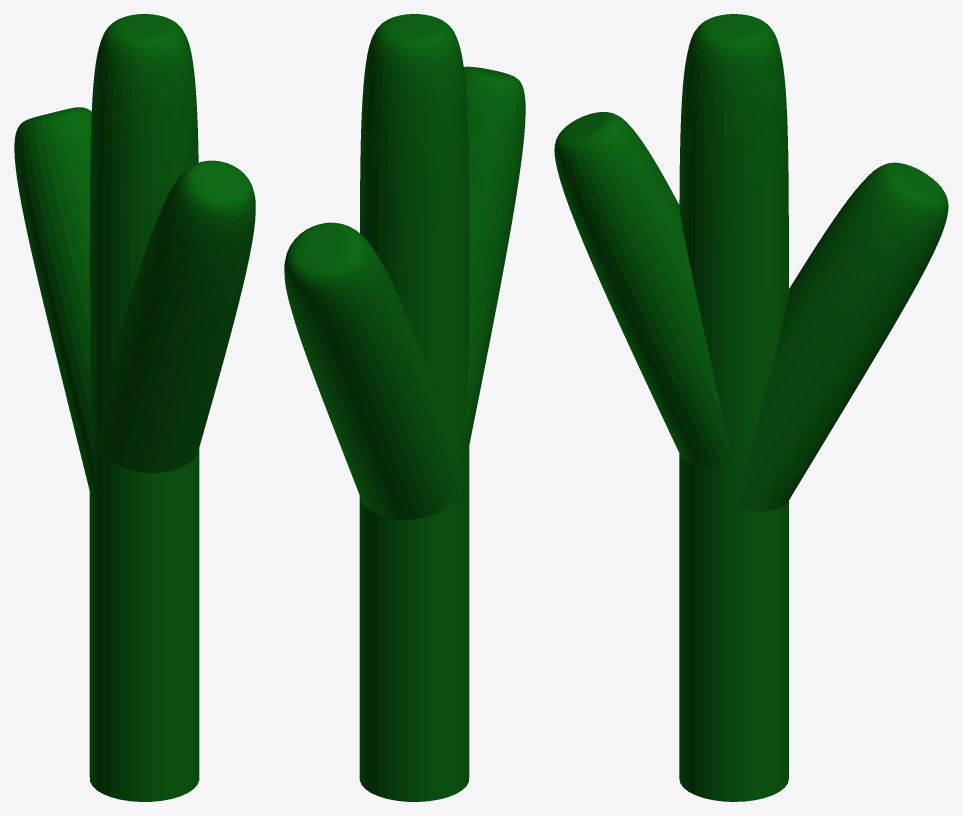
File: Cactus.fbx
3 views of the same model, side by side, from view 1: azimuth 30°, elevation 25°; view 2: azimuth 150°, elevation 25°; view 3: azimuth 270°, elevation 25° (orthographic).
Visible parts, largest first — view 1: Cactus 1; view 2: Cactus 1; view 3: Cactus 1.
Boxes of the visible parts, left/top/right/bottom form: Cactus 1: left=14, top=14, right=255, bottom=801; Cactus 1: left=284, top=14, right=525, bottom=801; Cactus 1: left=554, top=14, right=948, bottom=801.
Bounding box in the file's own units: 80.39 × 610 × 289.
